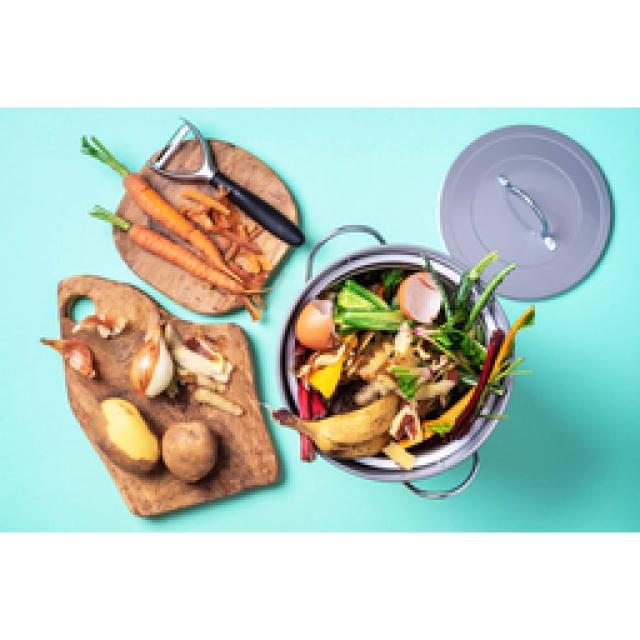food_waste: (118, 172, 270, 318), (335, 308, 456, 405), (128, 315, 240, 412), (100, 398, 215, 480), (42, 340, 92, 378), (75, 315, 122, 335)
